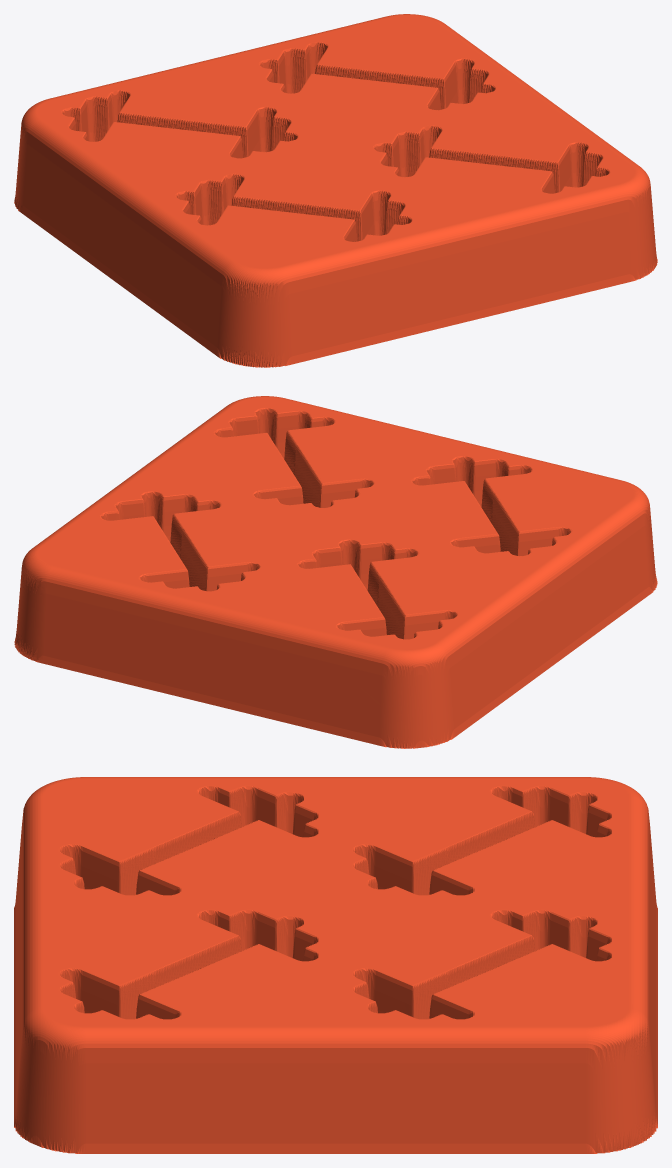
File: mold.glb
The picture shows the model from 3 angles, top to bottom: view 1: azimuth 30°, elevation 25°; view 2: azimuth 150°, elevation 25°; view 3: azimuth 270°, elevation 25°; orthographic projection. The views are drawn at different scales.
Parts seen in each view (by area): view 1: geometry_0; view 2: geometry_0; view 3: geometry_0.
Boxes of the visible parts, x1,y1,x2,y2 form: geometry_0: (14,14,657,367); geometry_0: (14,396,657,748); geometry_0: (14,777,657,1153).
Bounding box in the file's own units: 0.0808 × 0.0159 × 0.0808.
